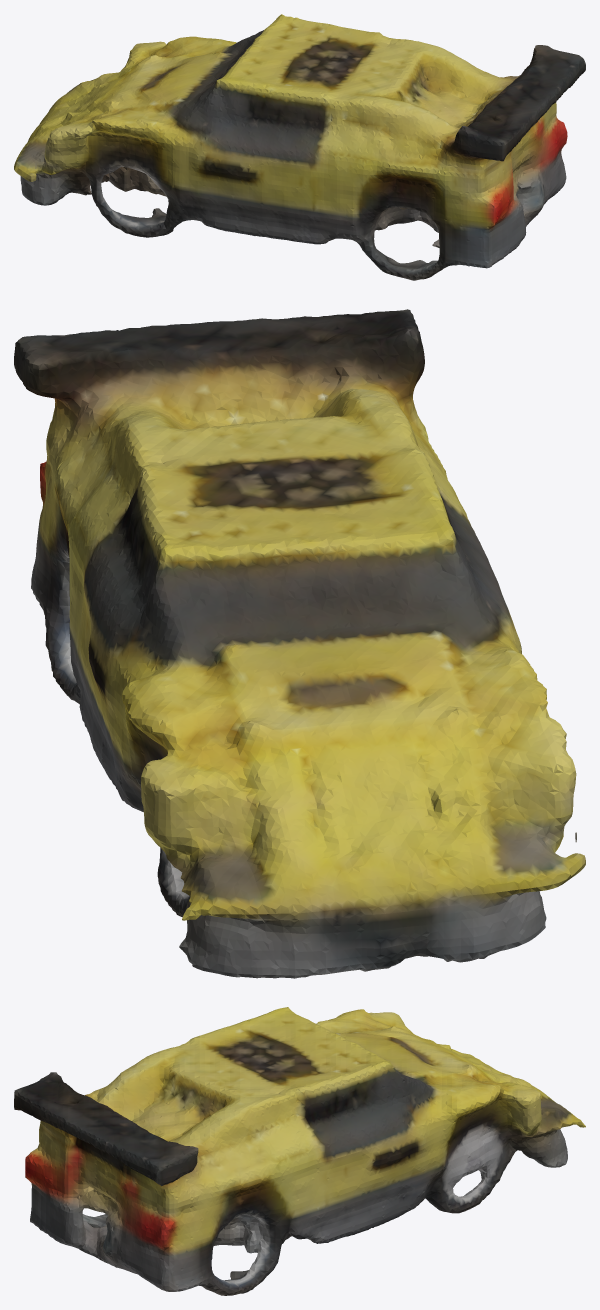
Rendered from ours-conv.glb.
3 renders of one model, top to bottom at view 1: azimuth 30°, elevation 25°; view 2: azimuth 150°, elevation 25°; view 3: azimuth 270°, elevation 25°, orthographic. The views are drawn at different scales.
Visible parts, largest first — view 1: ours.obj; view 2: ours.obj; view 3: ours.obj.
Part boxes in pixels (x1,y1,x2,y2): ours.obj: [14, 14, 585, 280]; ours.obj: [14, 309, 585, 978]; ours.obj: [14, 1007, 585, 1295].
Size of the model in its own units: 1.73 by 0.6112 by 1.86.
